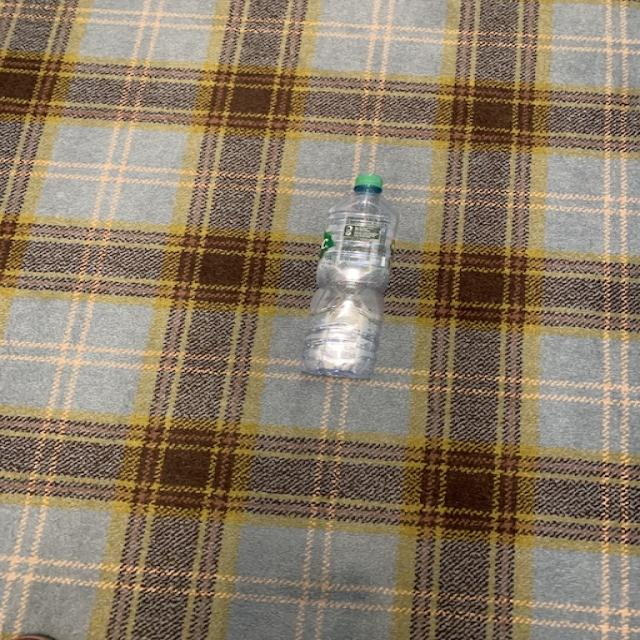litter: (299, 175, 401, 383)
